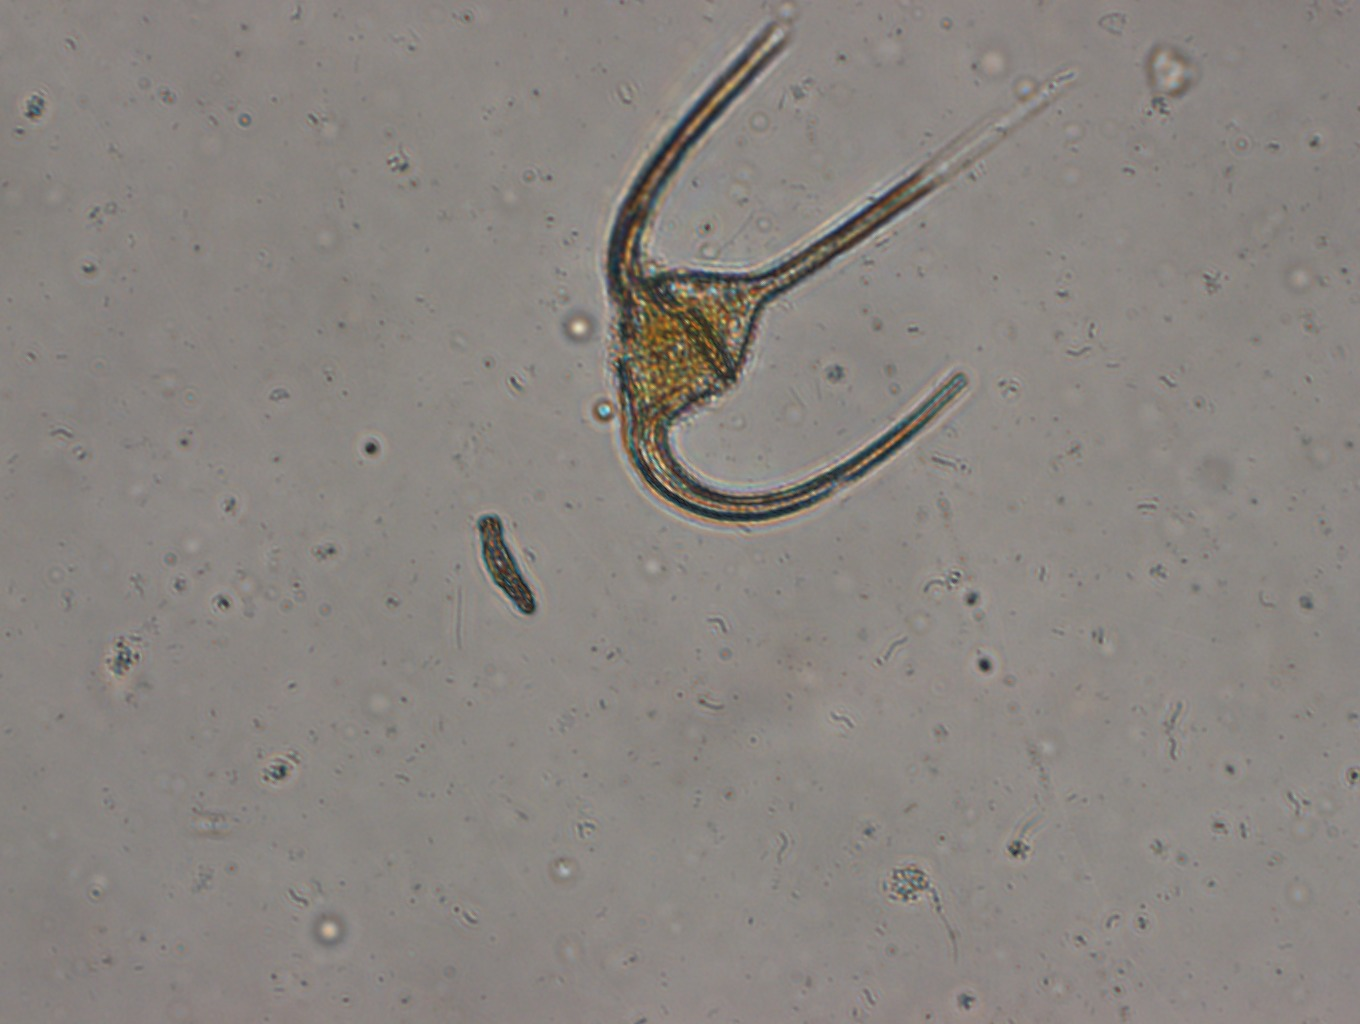ceratium trichoceros: (595, 9, 1096, 542)
